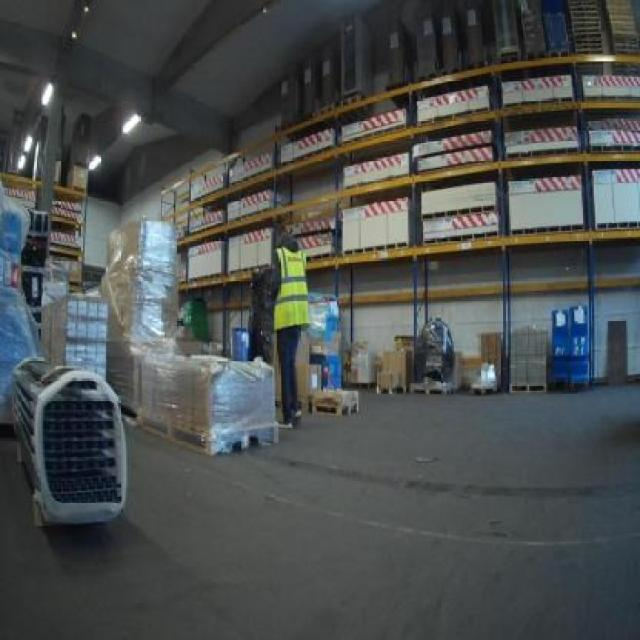ground: (0, 387, 638, 638)
pallet: (138, 406, 290, 459), (421, 203, 499, 224), (422, 228, 501, 247), (511, 221, 589, 238), (339, 239, 411, 257), (504, 146, 582, 162), (309, 400, 363, 420), (414, 384, 458, 398), (593, 144, 640, 155), (509, 383, 550, 395), (374, 384, 410, 397), (552, 381, 590, 392), (595, 221, 640, 230)
